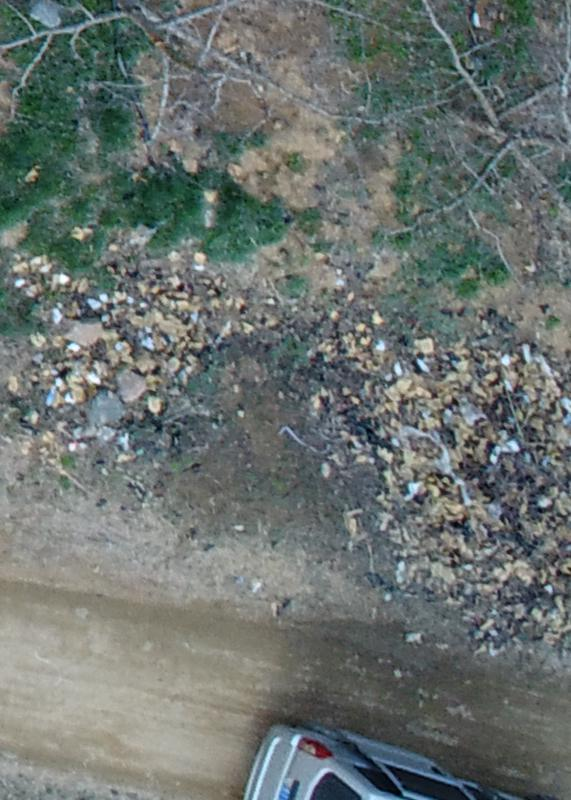apple: (379, 10, 561, 270)
